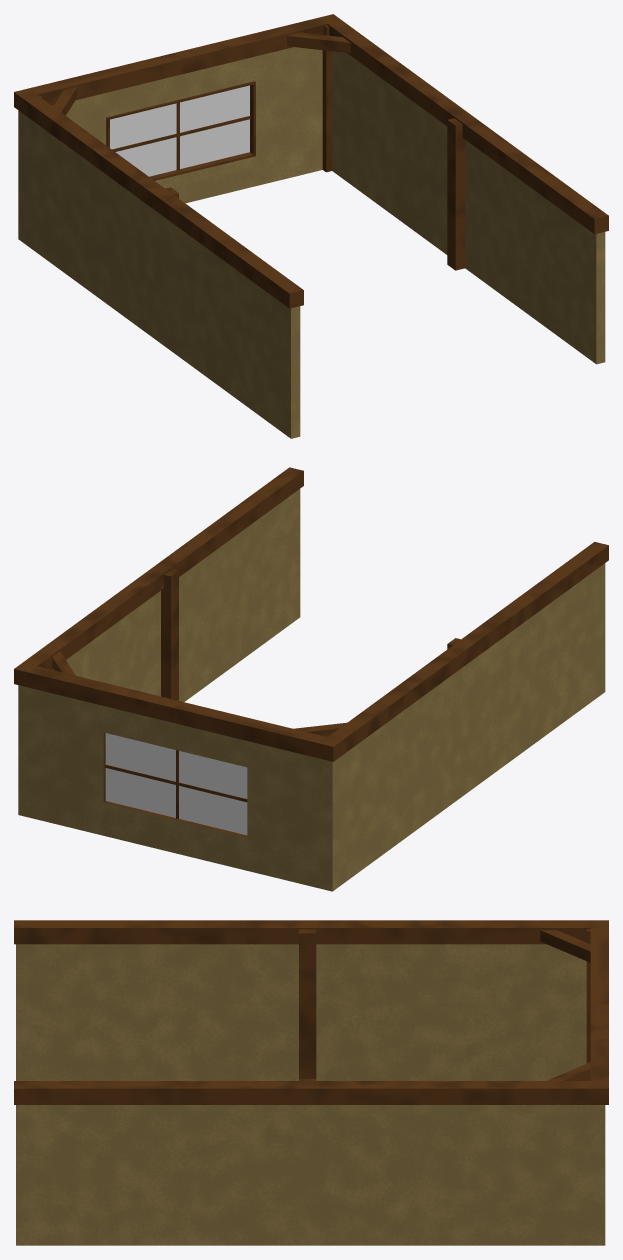
File: shop_3.fbx
3 renders of one model, top to bottom at view 1: azimuth 30°, elevation 25°; view 2: azimuth 150°, elevation 25°; view 3: azimuth 270°, elevation 25°, orthographic. The views are drawn at different scales.
Parts seen in each view (by area): view 1: Cube, Wood, Window, Framuga; view 2: Cube, Wood, Window, Framuga; view 3: Cube, Wood.
Boxes of the visible parts, x1=… form: Cube: x1=18, y1=47, x2=605, y2=438; Wood: x1=14, y1=14, x2=608, y2=308; Window: x1=110, y1=85, x2=249, y2=176; Framuga: x1=106, y1=81, x2=255, y2=180; Cube: x1=18, y1=489, x2=605, y2=891; Wood: x1=14, y1=467, x2=608, y2=761; Window: x1=105, y1=733, x2=247, y2=835; Framuga: x1=103, y1=732, x2=247, y2=837; Cube: x1=16, y1=944, x2=605, y2=1245; Wood: x1=14, y1=920, x2=608, y2=1104.
Bounding box in the file's own units: 683 × 300 × 1021.
